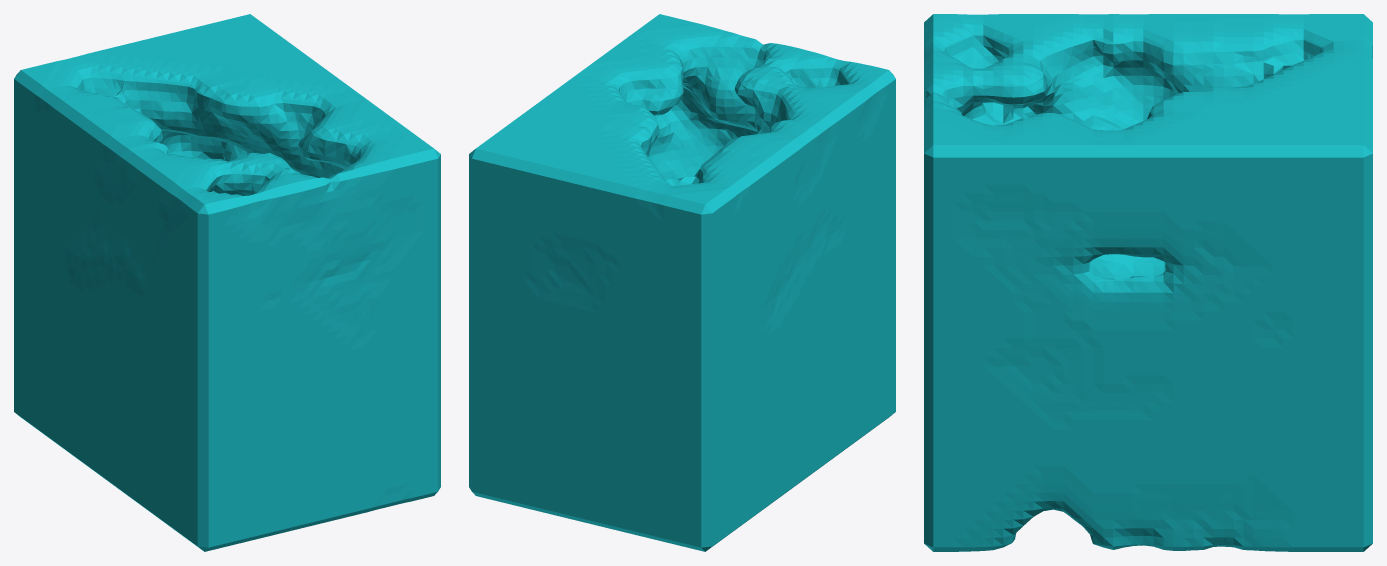
3 renders of one model, left to right at view 1: azimuth 30°, elevation 25°; view 2: azimuth 150°, elevation 25°; view 3: azimuth 270°, elevation 25°, orthographic. The views are drawn at different scales.
Visible parts, largest first — view 1: Liquid_Domain; view 2: Liquid_Domain; view 3: Liquid_Domain.
Boxes of the visible parts, box(x1,y1,x2,y2) form: Liquid_Domain: box(14, 14, 440, 551); Liquid_Domain: box(469, 14, 895, 551); Liquid_Domain: box(924, 14, 1372, 551).
Bounding box in the file's own units: 79.09 × 108 × 108.
